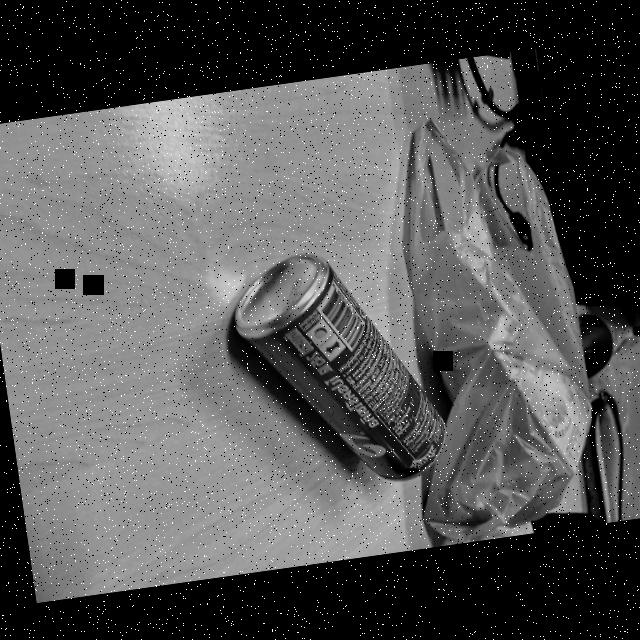can: (205, 226, 464, 516)
